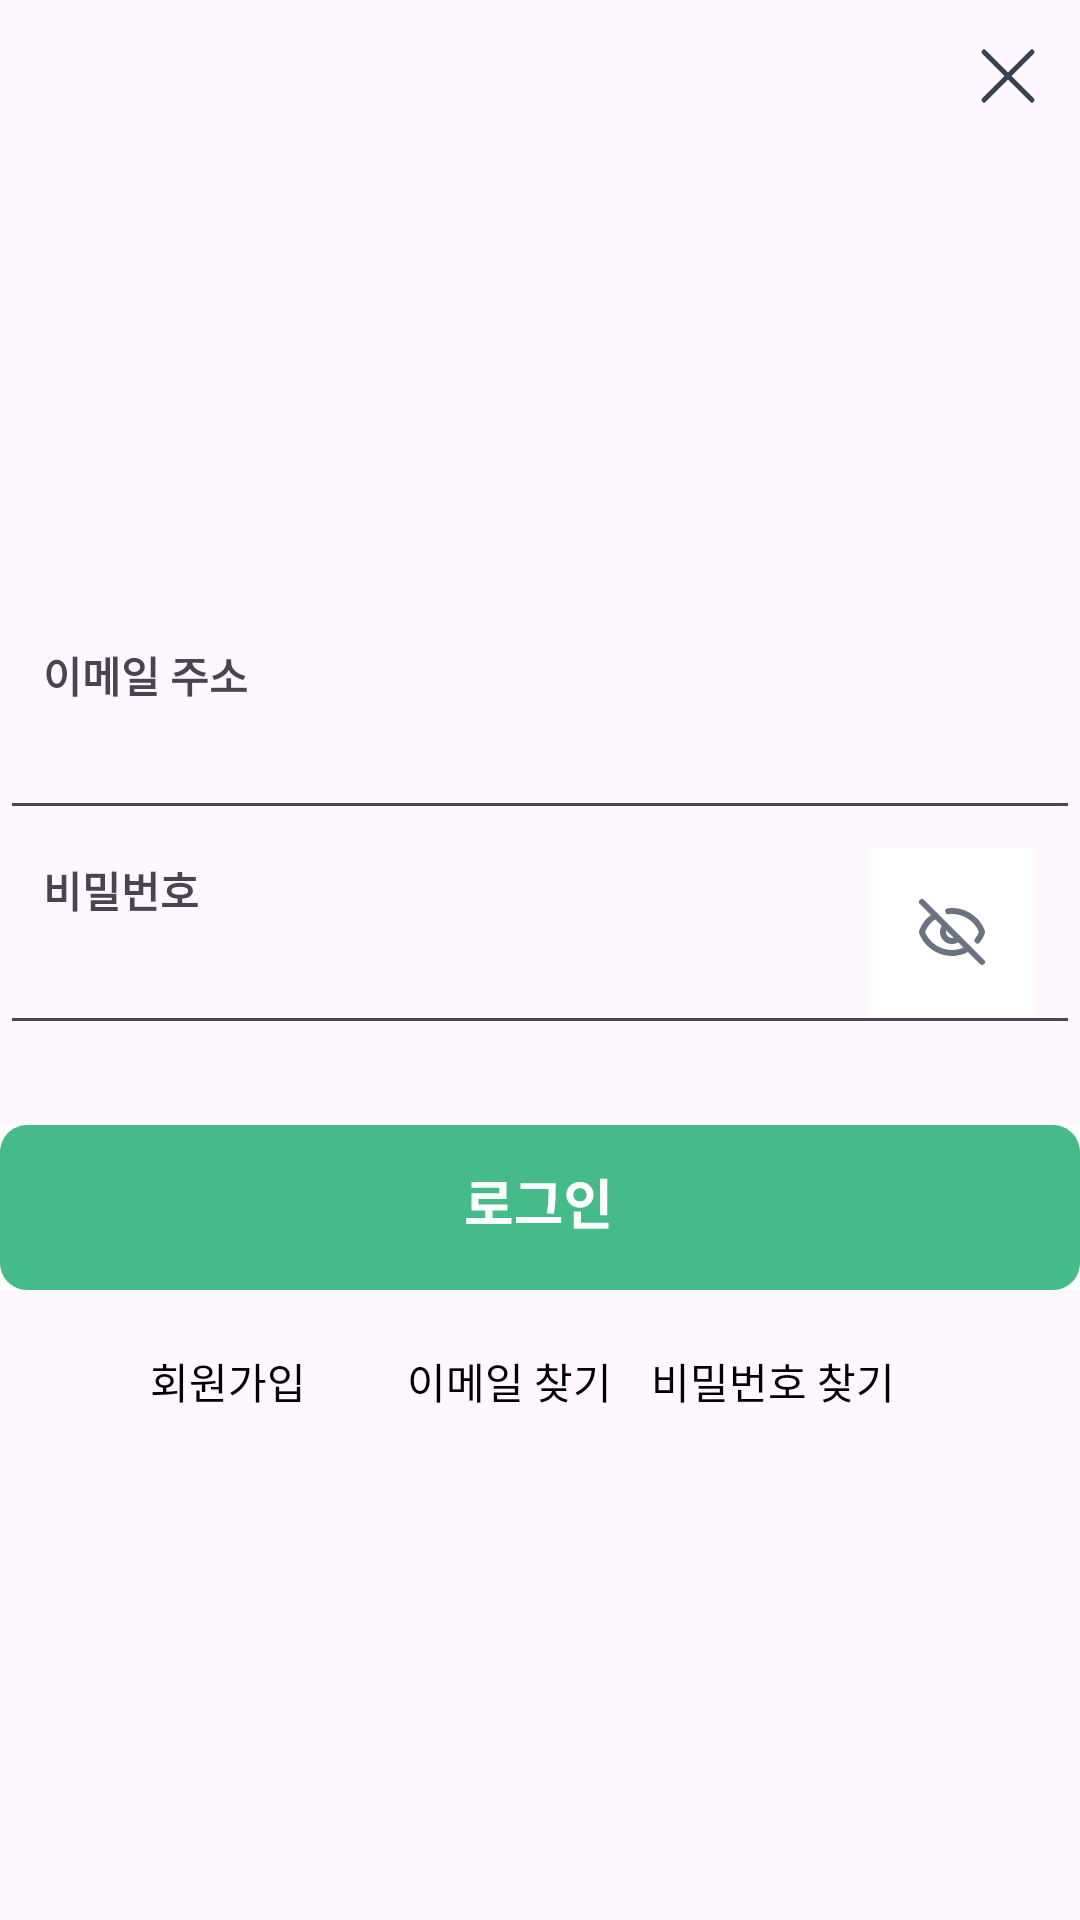

Screen size 1080 × 1920. Icon name, then its center in pixels as (x=x, y=y):
hide password: (x=952, y=932)
